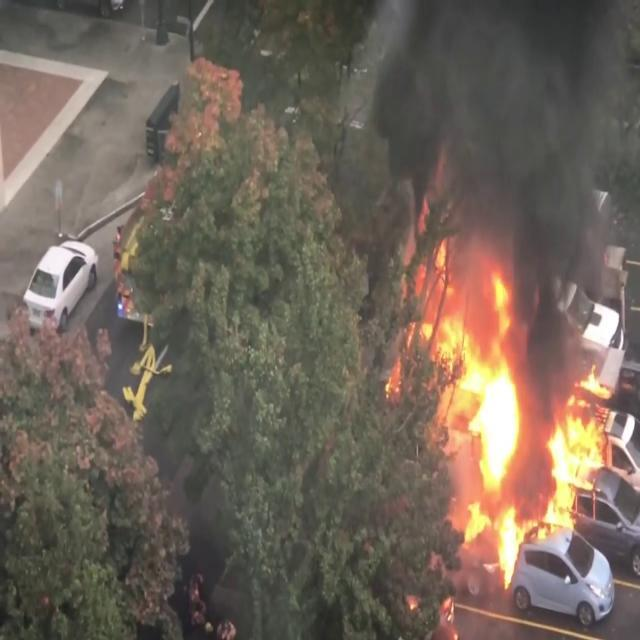Fire: (364, 240, 616, 573)
Smoke: (338, 1, 640, 264)
